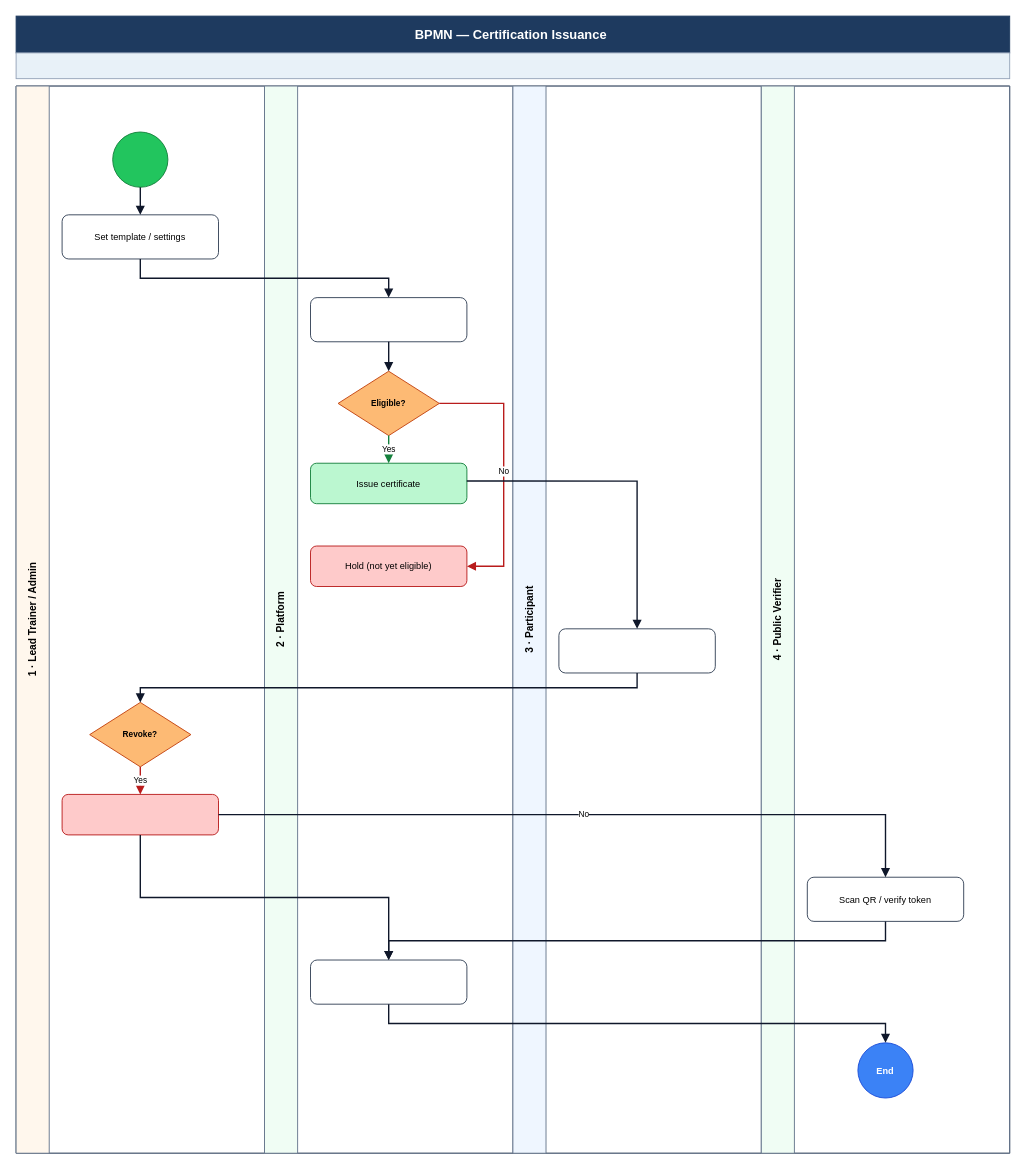
Image size: 1026x1169. Some labels were removed from this diagram. The centre of each missing label's shape, as x and y in pixels:
Check eligibility: (388,319)
Internal certificates: (512,65)
Return valid / revoked: (388,981)
Revoke / reissue: (139,814)
Start: (140,159)
View / email certificate: (636,650)
